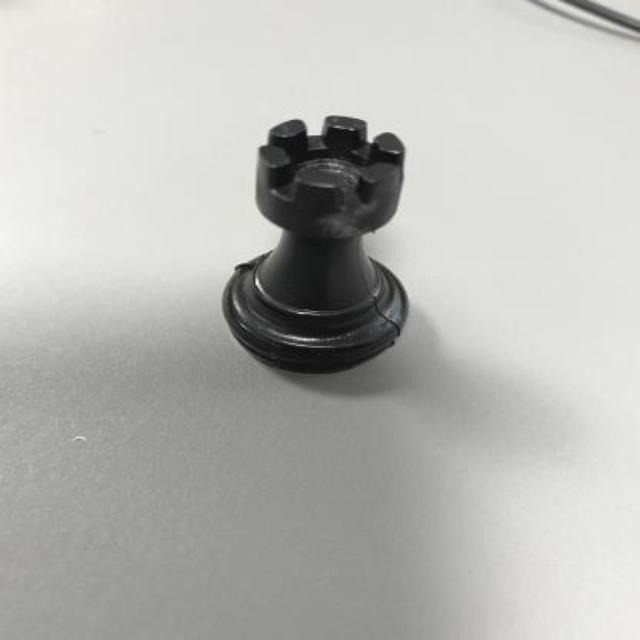black-rook: (218, 114, 411, 376)
